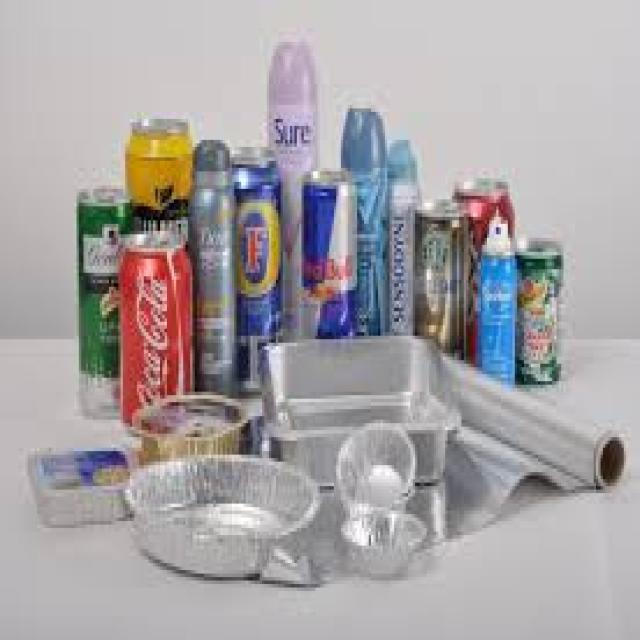metal: (211, 423, 603, 549), (253, 336, 459, 483), (429, 357, 621, 490), (121, 451, 318, 577), (74, 185, 139, 420), (119, 231, 193, 420), (232, 144, 280, 389), (452, 175, 515, 360), (267, 101, 315, 336), (188, 172, 234, 389), (26, 444, 142, 521), (301, 168, 355, 332), (125, 112, 195, 238), (130, 392, 248, 465), (415, 199, 468, 357), (334, 416, 413, 507), (515, 238, 561, 385), (336, 507, 427, 577), (476, 242, 513, 375), (355, 171, 385, 329), (385, 178, 415, 329)
